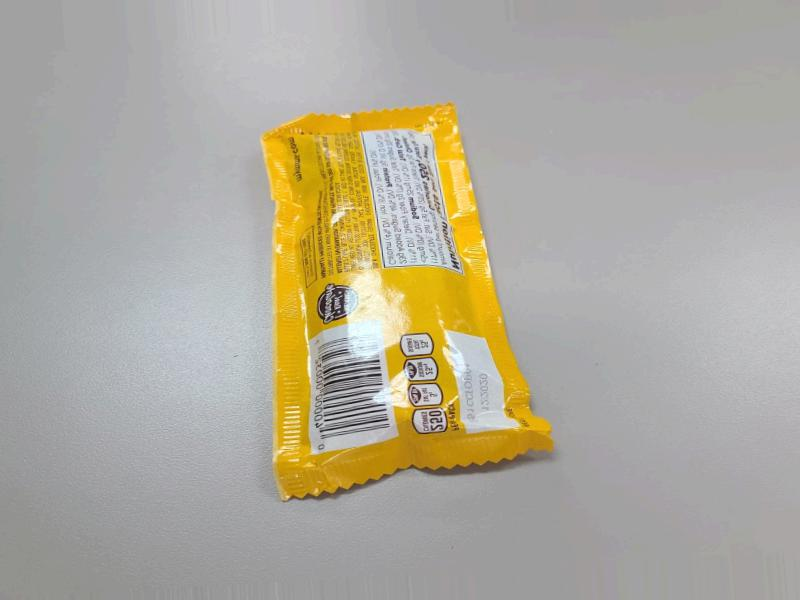m&m: (269, 111, 540, 496)
